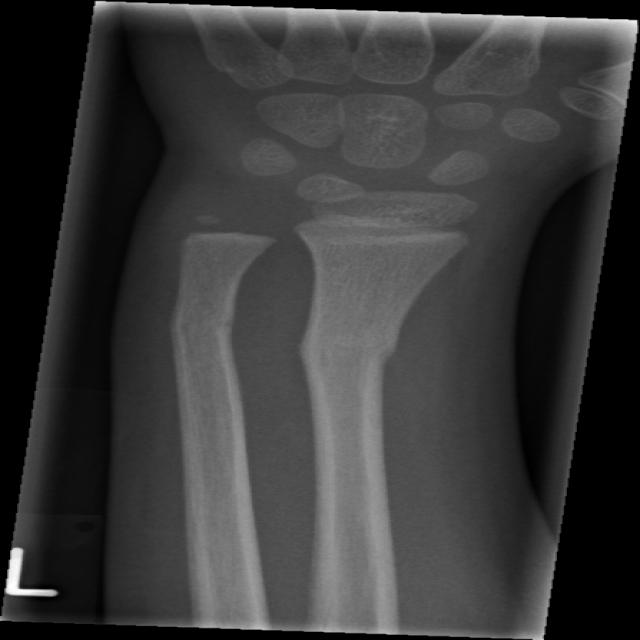radius fracture: (280, 295, 430, 413)
